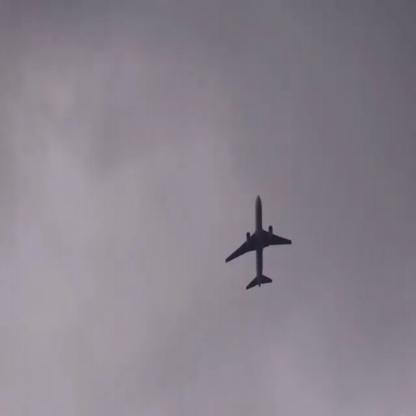CIV_Plane: (224, 194, 292, 288)
